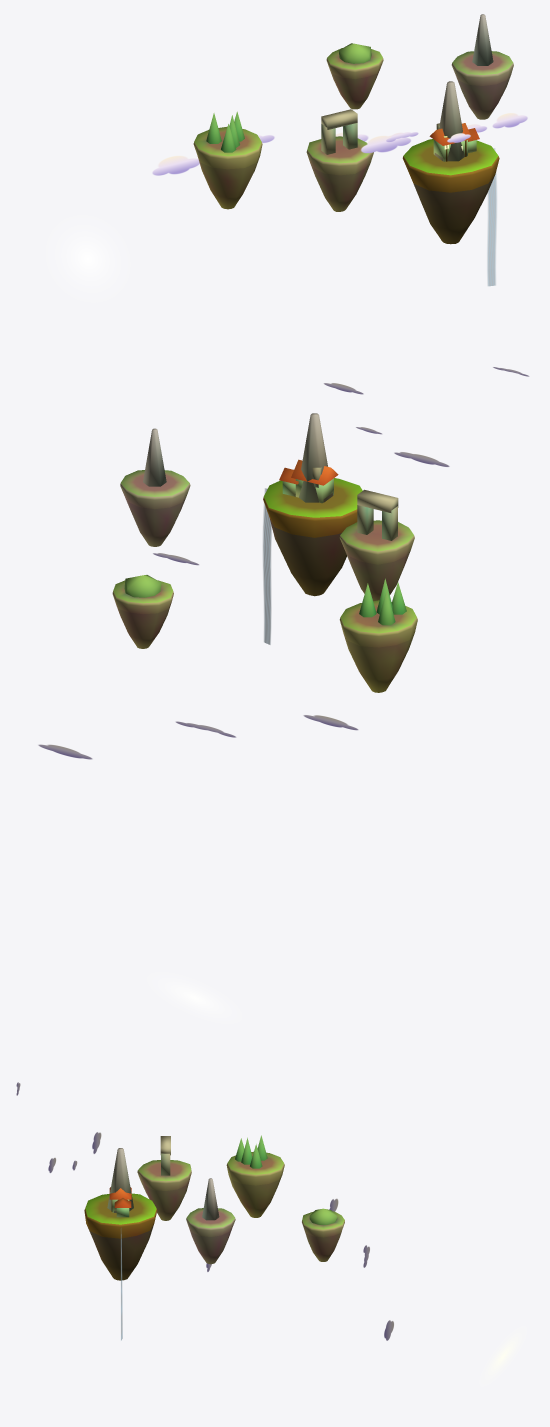
File: env_backdrop.glb
3 views of the same model, one above another, from view 1: azimuth 30°, elevation 25°; view 2: azimuth 150°, elevation 25°; view 3: azimuth 270°, elevation 25° (orthographic). The views are drawn at different scales.
Parts seen in each view (by area): view 1: backdrop_cottage_island, backdrop_far_arch, backdrop_far_pines, backdrop_sun_glow, backdrop_far_spire, backdrop_far_hill, backdrop_waterfall, backdrop_cottage, backdrop_cloud_4, backdrop_cloud_0, backdrop_cloud_1; view 2: backdrop_cottage_island, backdrop_far_pines, backdrop_far_arch, backdrop_far_spire, backdrop_far_hill, backdrop_sun_glow, backdrop_cottage, backdrop_waterfall; view 3: backdrop_cottage_island, backdrop_far_pines, backdrop_far_arch, backdrop_far_spire, backdrop_far_hill, backdrop_sun_glow, backdrop_cottage.
Boxes of the visible parts, left/top/right/bottom form: backdrop_cottage_island: left=402, top=81, right=499, bottom=244; backdrop_far_arch: left=306, top=109, right=373, bottom=211; backdrop_far_pines: left=193, top=111, right=262, bottom=209; backdrop_sun_glow: left=55, top=225, right=120, bottom=292; backdrop_far_spire: left=451, top=14, right=513, bottom=119; backdrop_far_hill: left=326, top=43, right=383, bottom=109; backdrop_waterfall: left=487, top=148, right=496, bottom=286; backdrop_cottage: left=429, top=123, right=479, bottom=161; backdrop_cloud_4: left=152, top=155, right=199, bottom=175; backdrop_cloud_0: left=361, top=135, right=410, bottom=153; backdrop_cloud_1: left=492, top=113, right=527, bottom=128; backdrop_cottage_island: left=263, top=413, right=362, bottom=596; backdrop_far_pines: left=339, top=578, right=417, bottom=692; backdrop_far_arch: left=339, top=489, right=414, bottom=601; backdrop_far_spire: left=120, top=428, right=190, bottom=546; backdrop_far_hill: left=112, top=575, right=173, bottom=648; backdrop_sun_glow: left=158, top=978, right=231, bottom=1017; backdrop_cottage: left=279, top=459, right=338, bottom=503; backdrop_waterfall: left=263, top=488, right=271, bottom=644; backdrop_cottage_island: left=84, top=1148, right=157, bottom=1280; backdrop_far_pines: left=226, top=1135, right=284, bottom=1217; backdrop_far_arch: left=137, top=1136, right=191, bottom=1220; backdrop_far_spire: left=186, top=1178, right=235, bottom=1264; backdrop_far_hill: left=302, top=1208, right=344, bottom=1261; backdrop_sun_glow: left=485, top=1333, right=521, bottom=1379; backdrop_cottage: left=109, top=1187, right=131, bottom=1217.
Size of the model in its own units: 24.75 by 31.02 by 46.37.
Materials: 5 (4 with a texture image).
